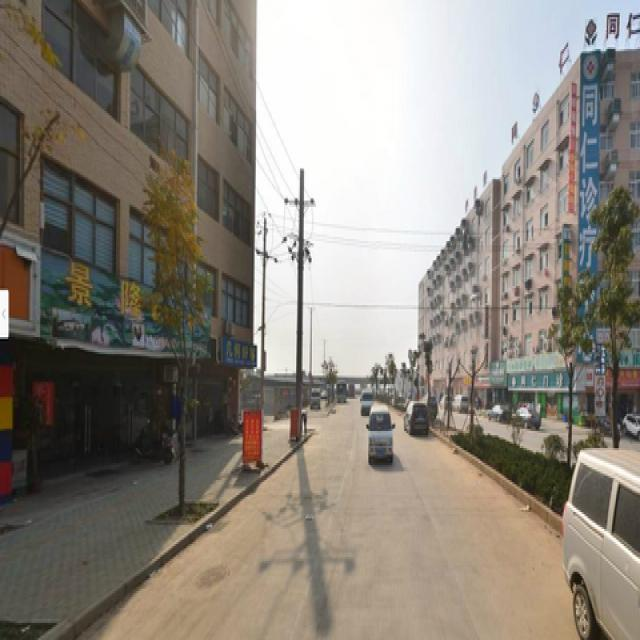koel: (152, 175, 207, 525), (596, 198, 628, 433), (553, 277, 579, 444)
